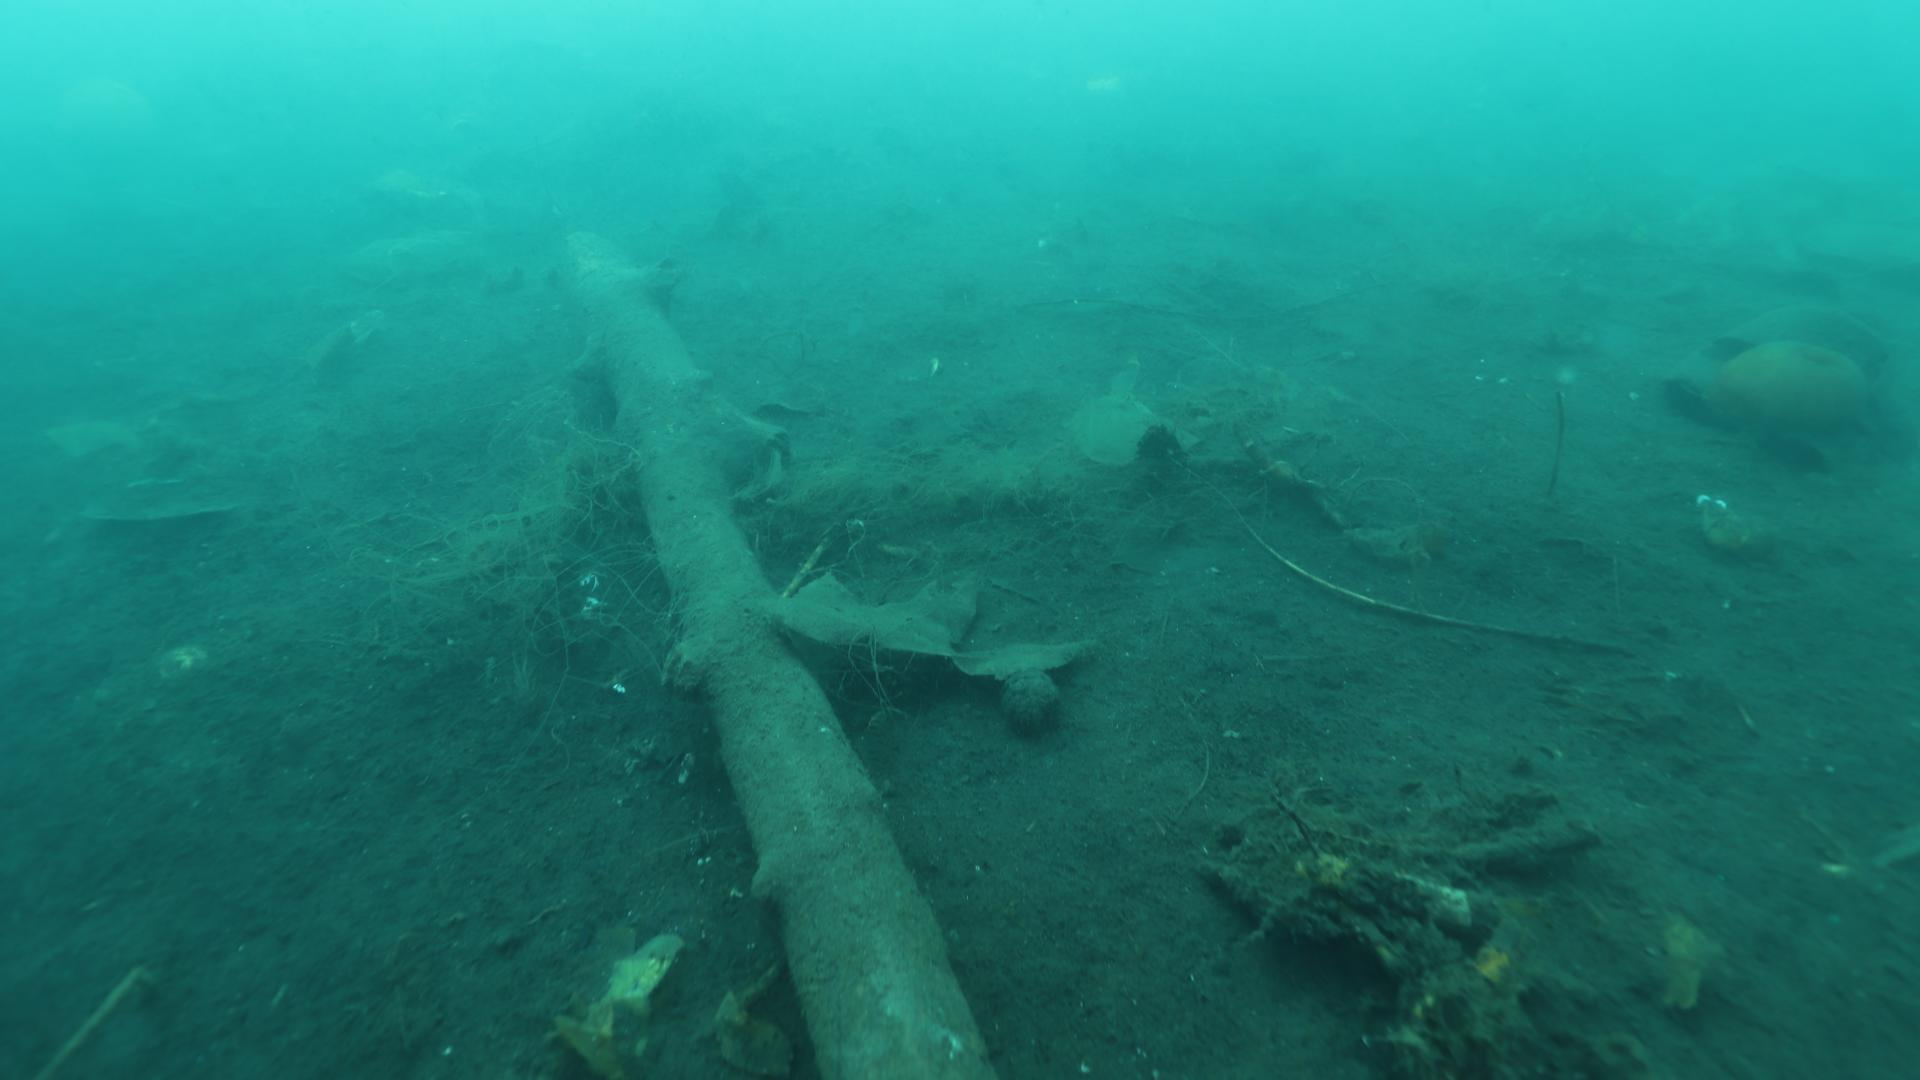wood: (568, 231, 1007, 1080)
